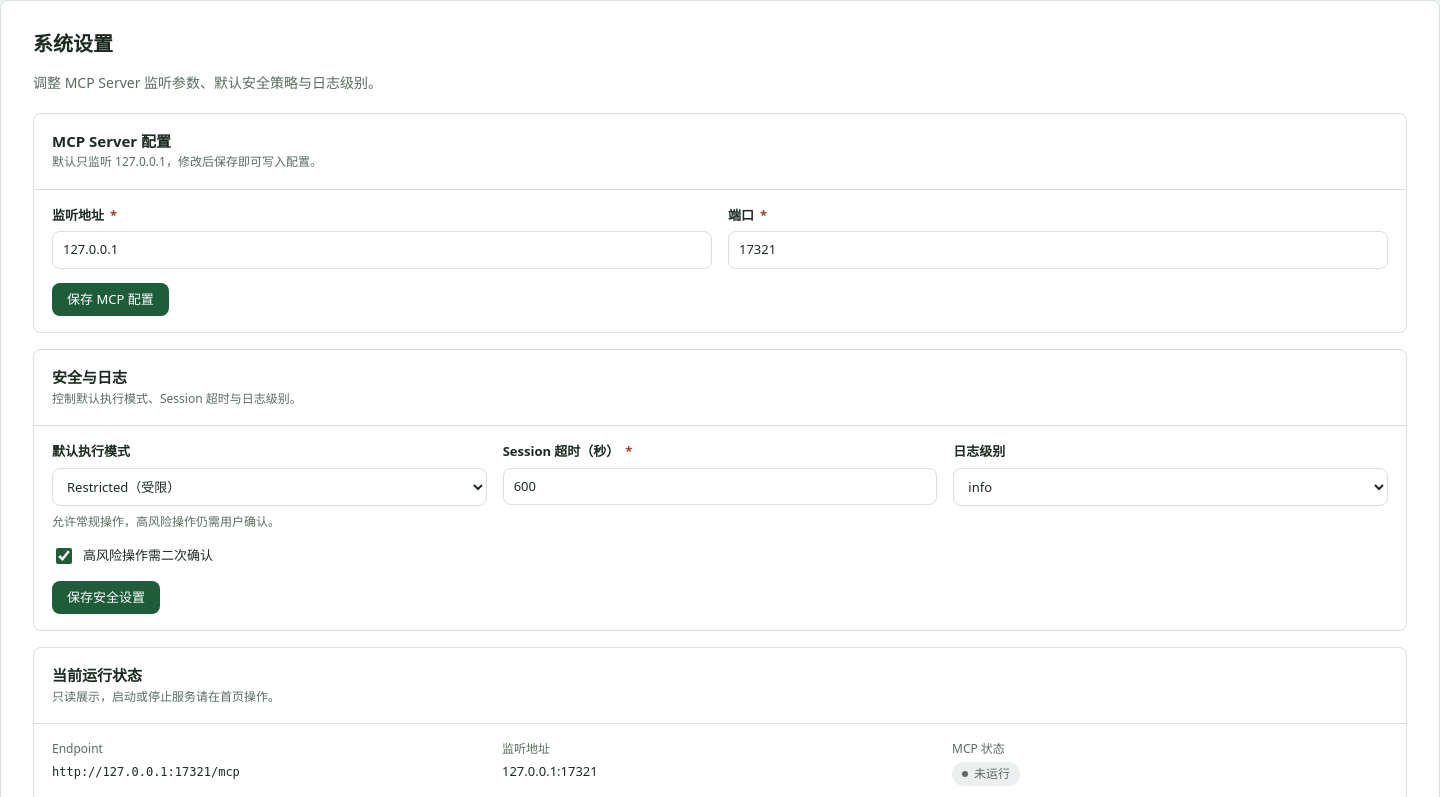
Test: 系统设置 - 安全与日志 › 保存安全设置时提交执行模式、超时、确认开关与日志级别
The width and height of the screenshot is (1440, 797).
Select "FullAccess（完全访问）" in the dropdown labelled "默认执行模式" at x=269, y=487, box [52,468,487,506]
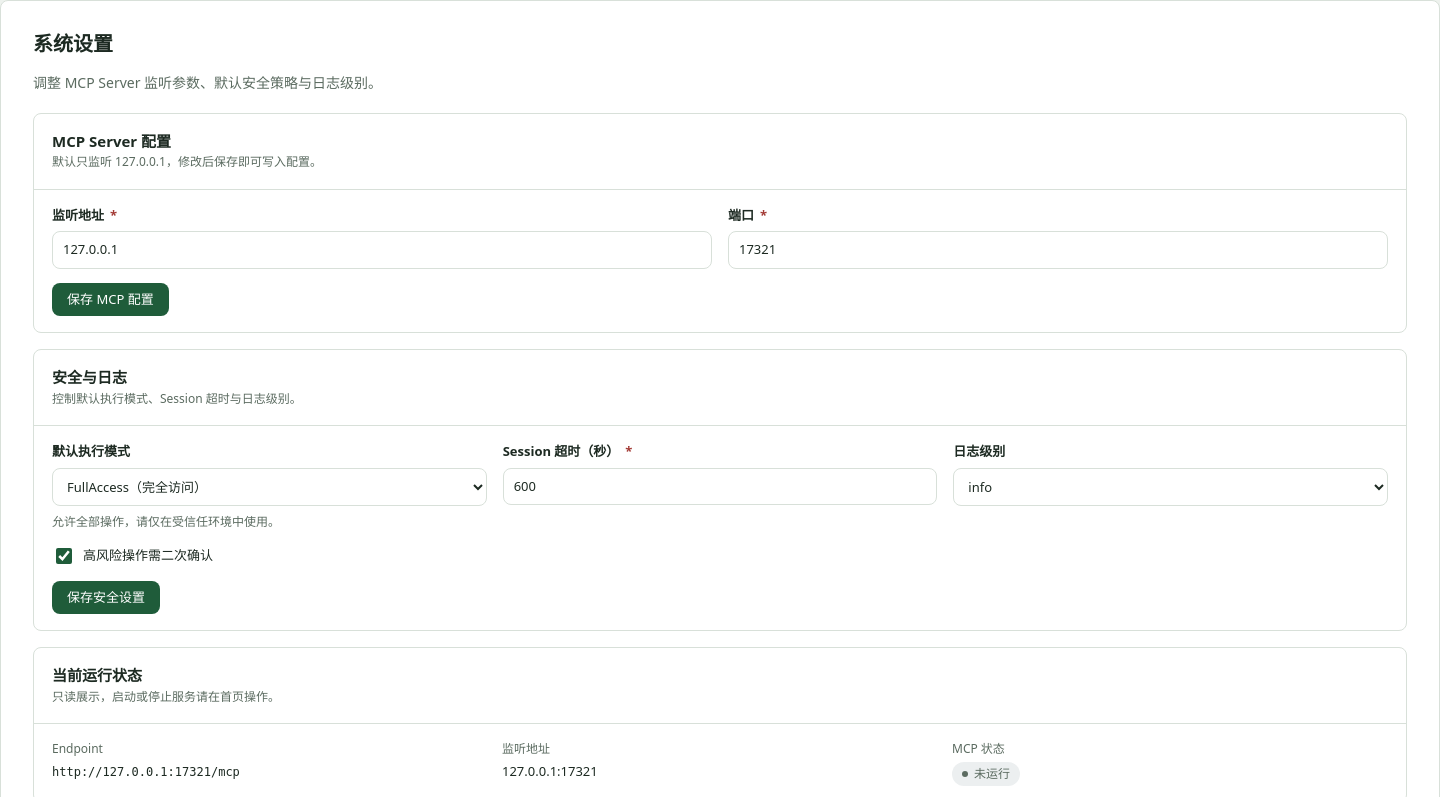
Replace the text in the number field labelled "Session 超时（秒）" with "900" at x=720, y=486, box [503,468,937,505]
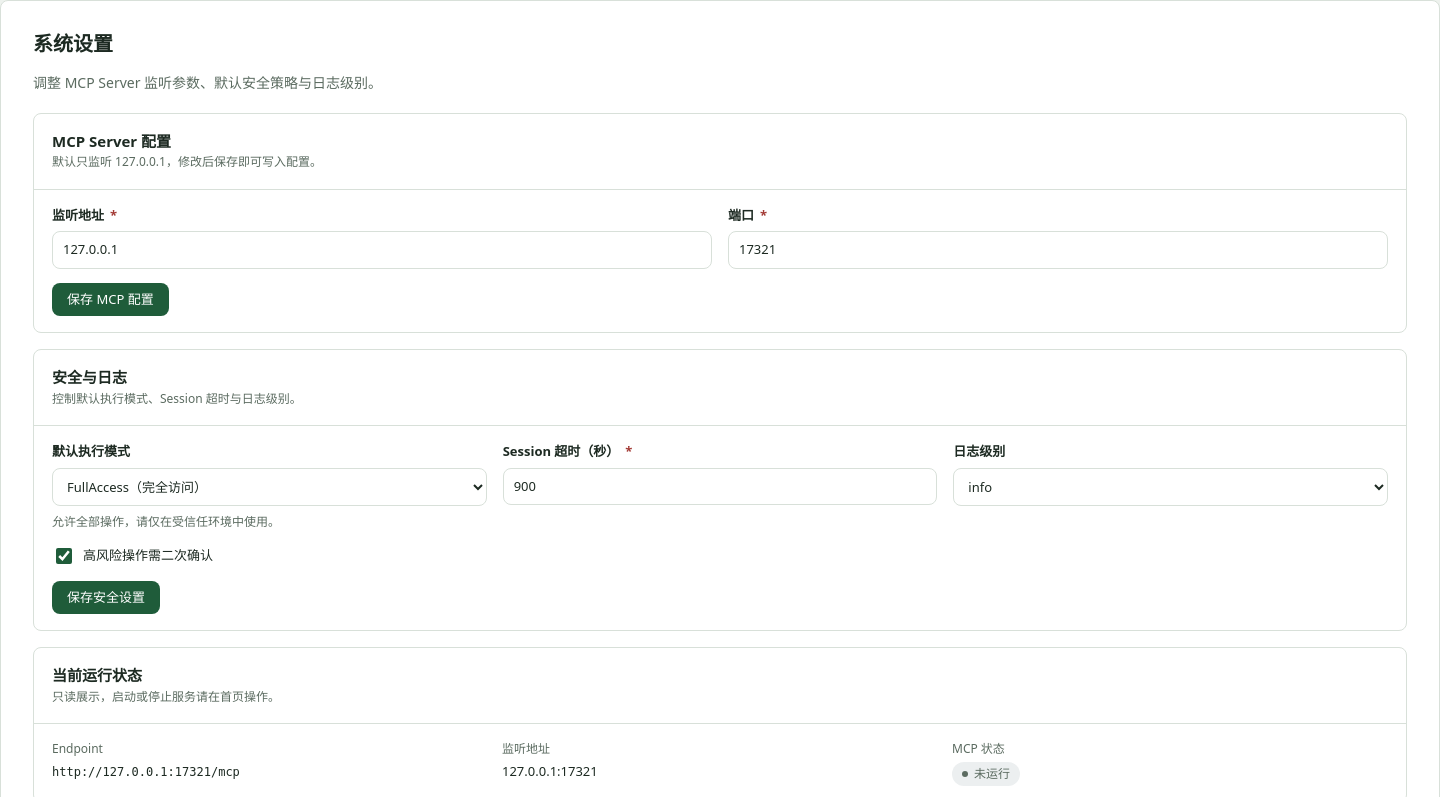
Click the checkbox labelled "高风险操作需二次确认" at x=64, y=556, box [56,548,72,564]
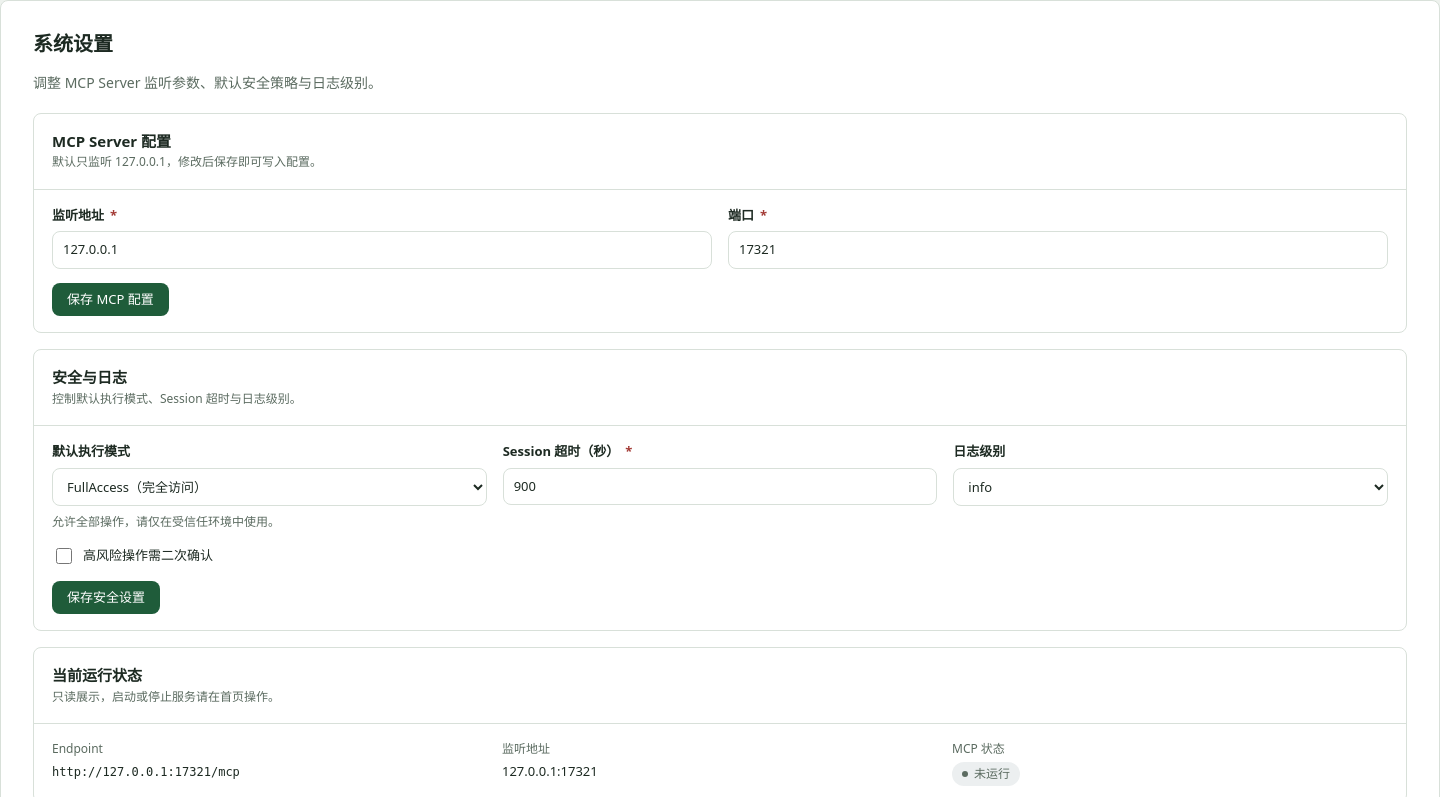
Select "debug" in the dropdown labelled "日志级别" at x=1171, y=487, box [953,468,1388,506]
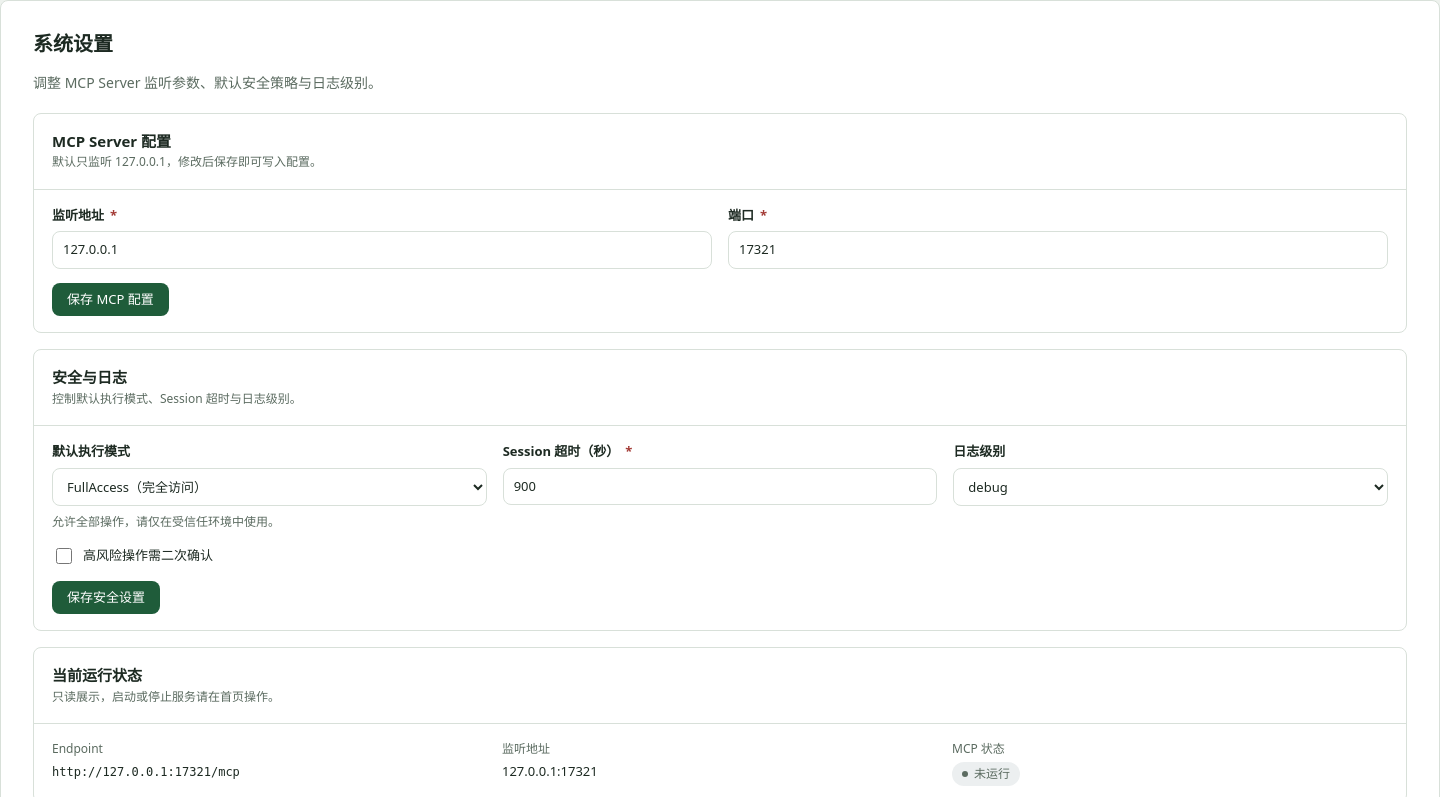
Click the button "保存安全设置" at x=106, y=598, box [52,581,160,614]
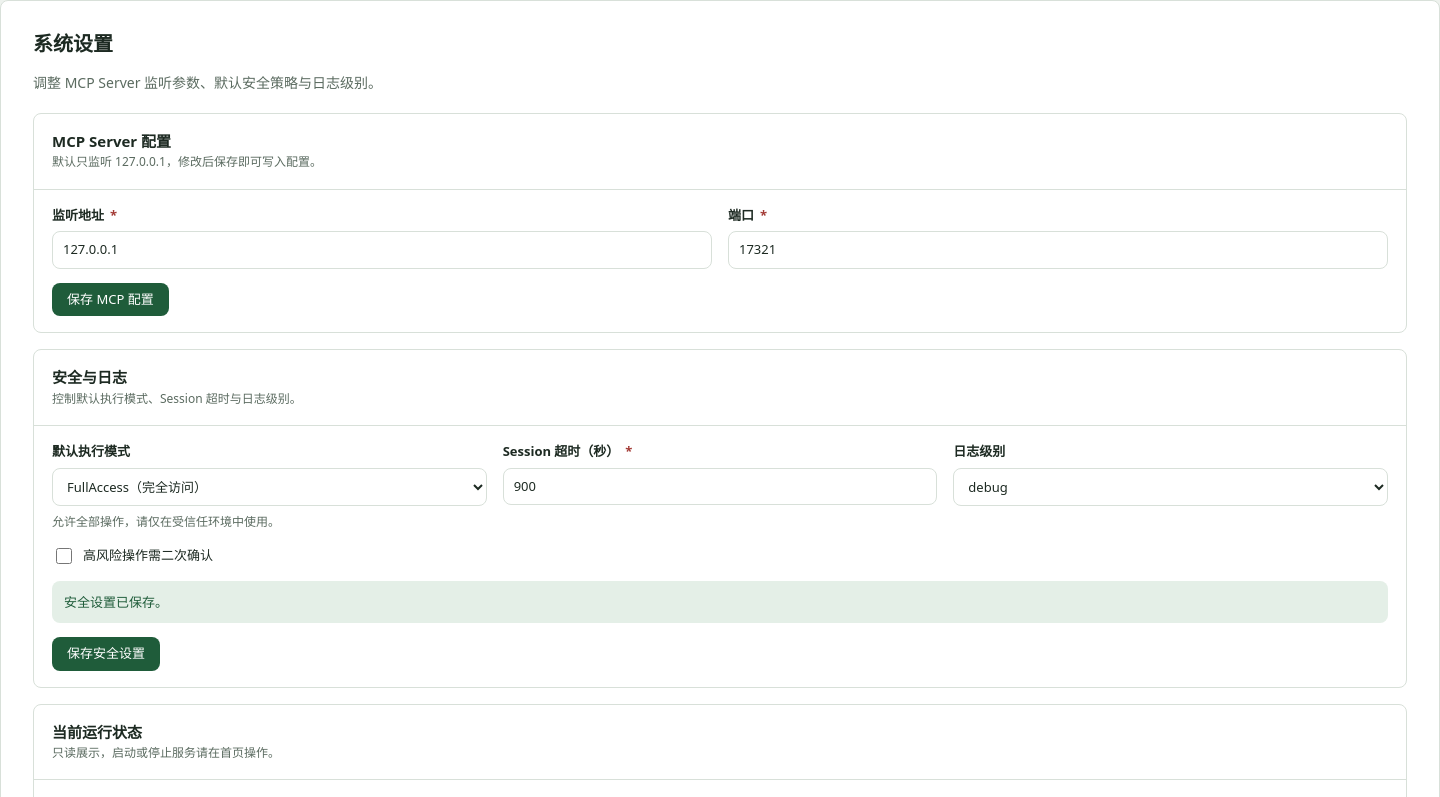
expect the text "安全设置已保存。" is shown: met, box [52,581,1388,623]
